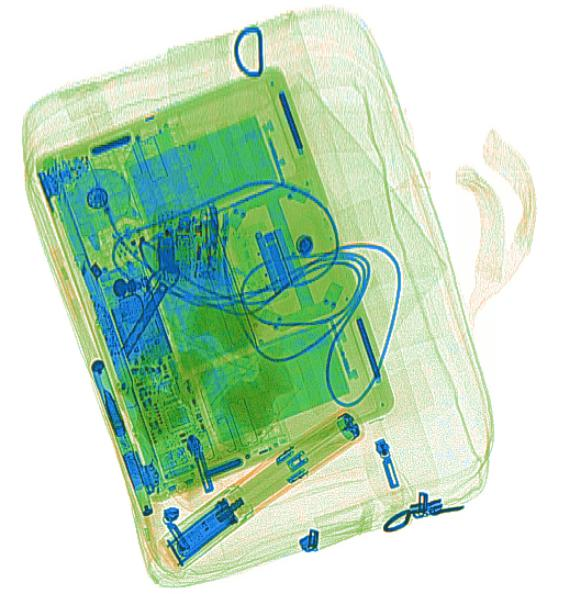seal: (214, 356, 294, 437), (132, 328, 213, 404), (115, 363, 184, 446), (190, 300, 259, 356)
